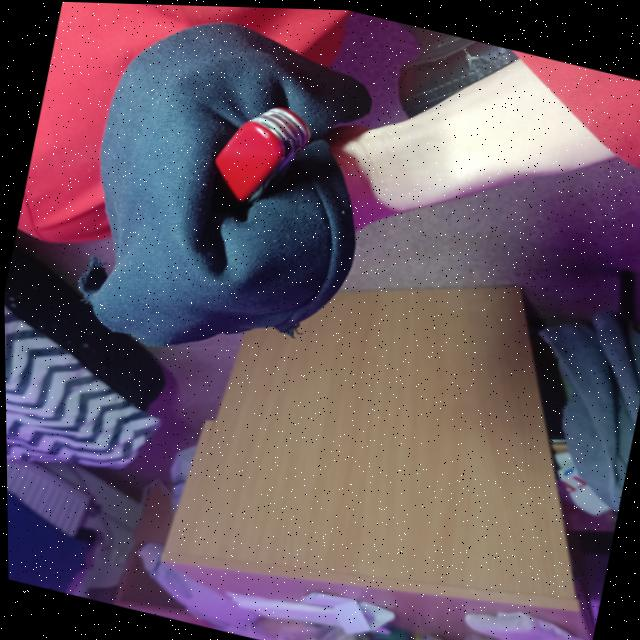knife victorinox: (214, 104, 309, 199)
